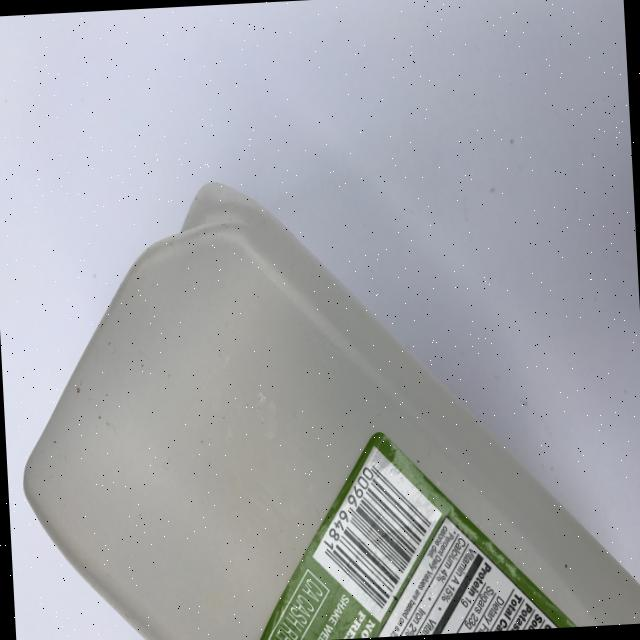plastic: (7, 157, 640, 640)
